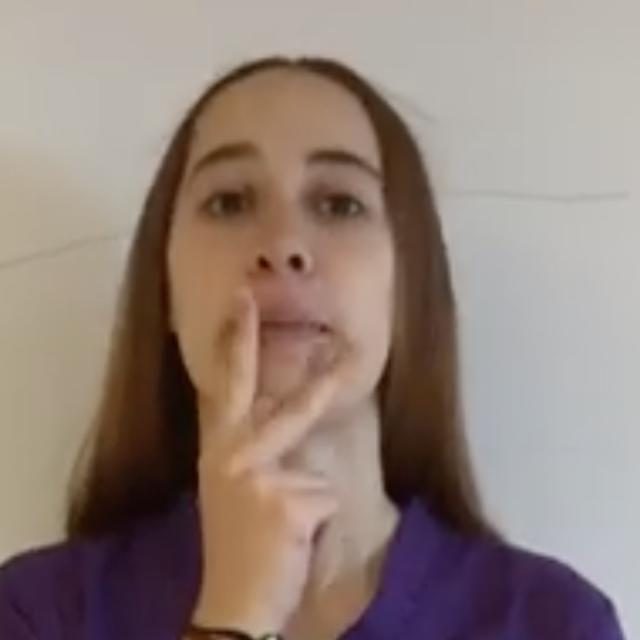PAPA: (195, 283, 374, 628)
